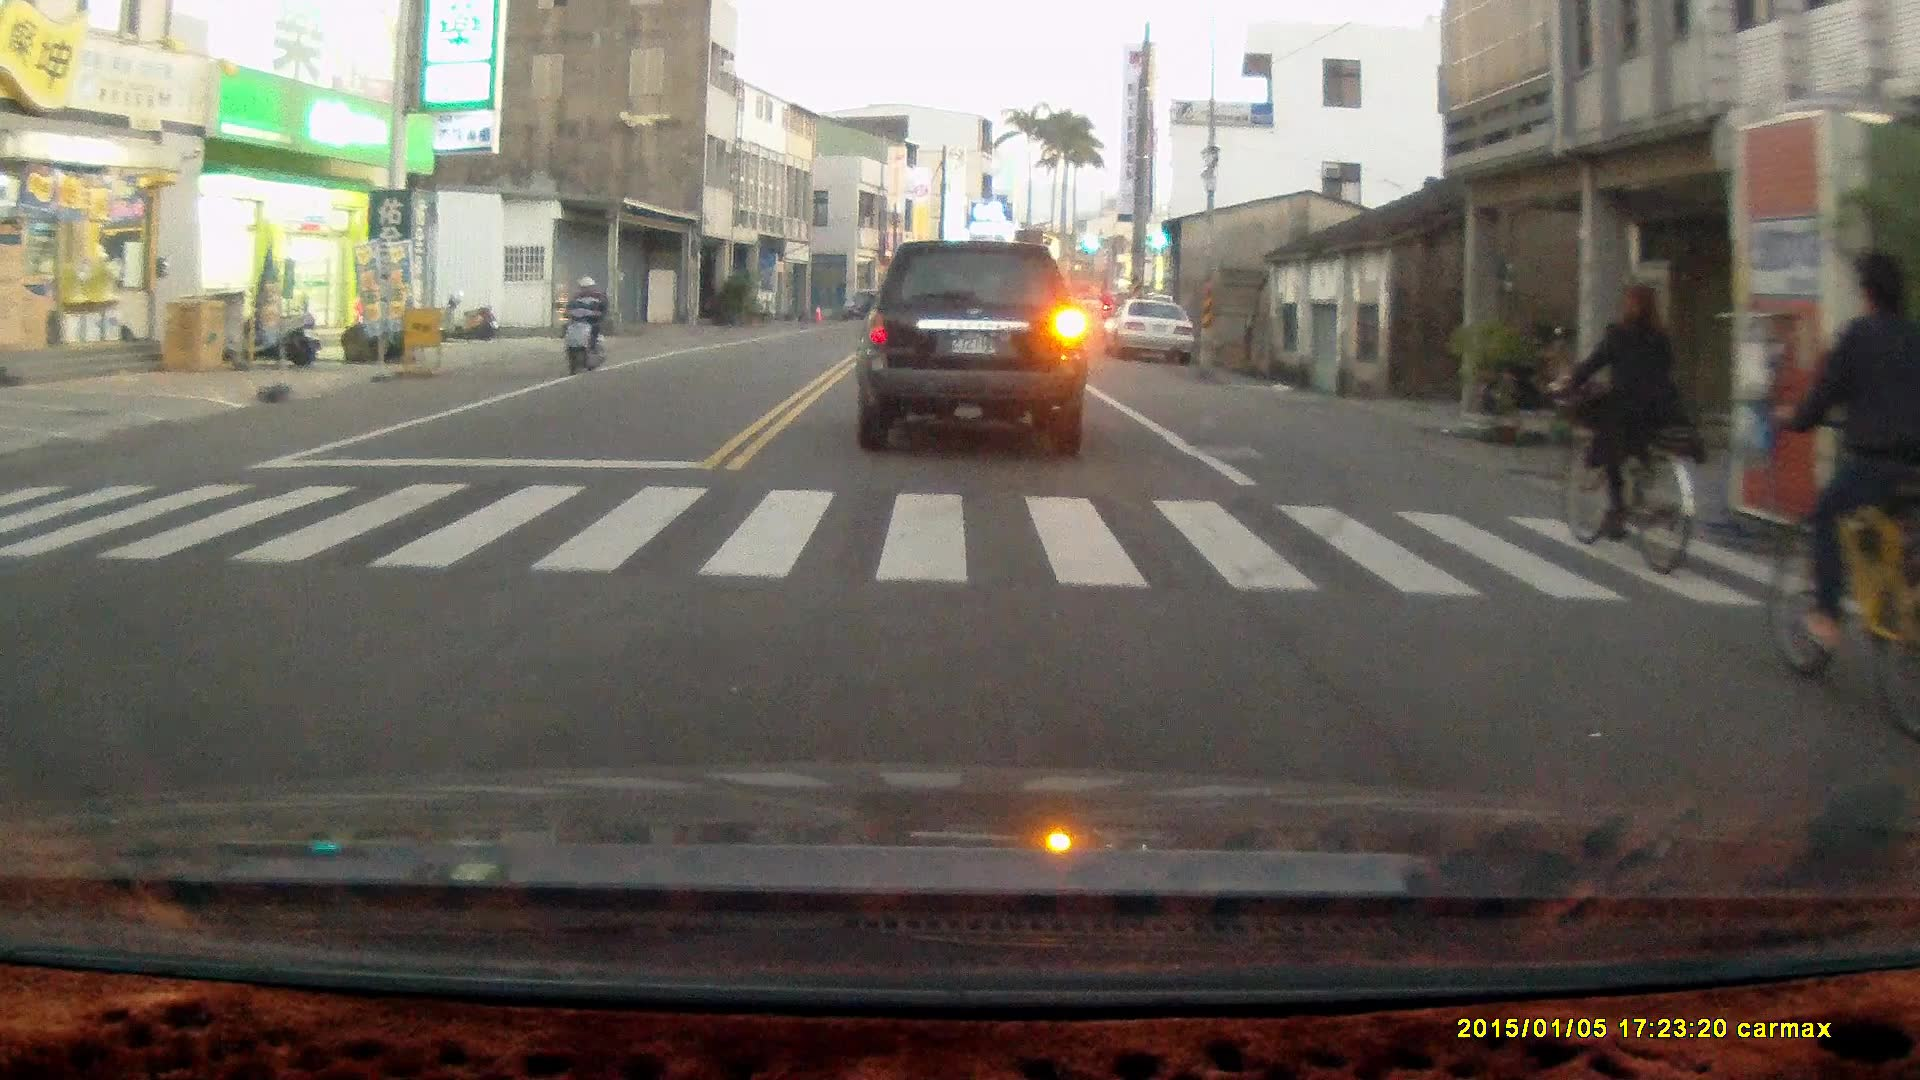rider: (1767, 250, 1920, 722), (1547, 278, 1693, 577), (555, 272, 610, 377)
vehicle: (860, 242, 1091, 465), (1108, 303, 1196, 367)
